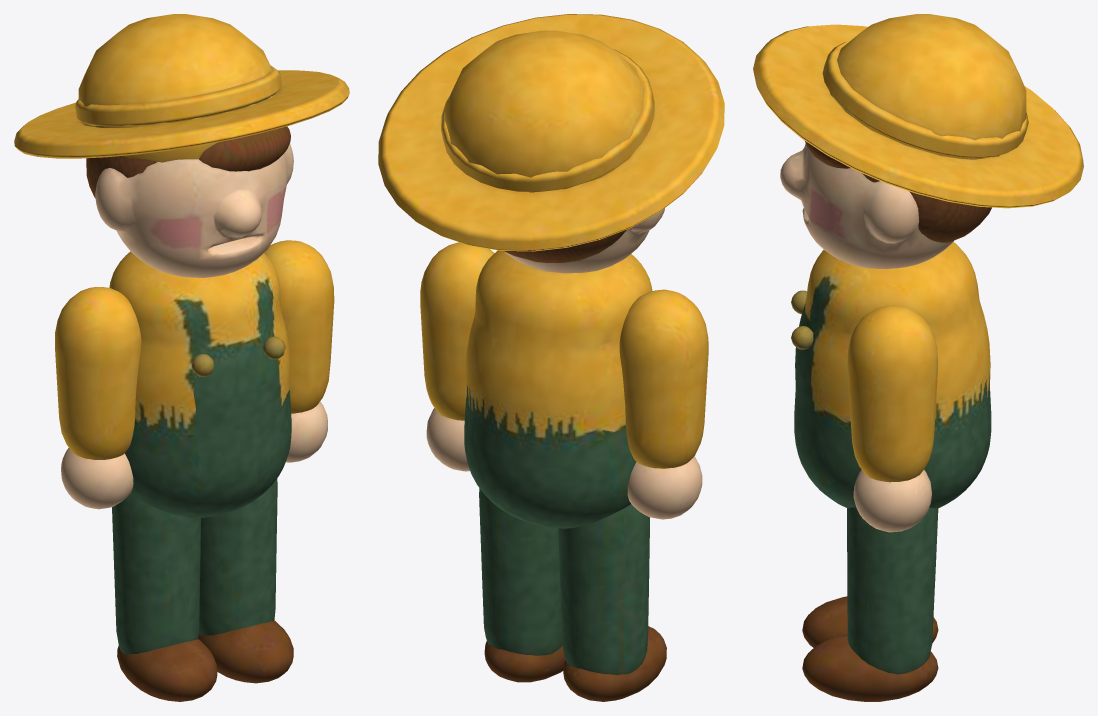
File: fisher.glb
3 views of the same model, side by side, from view 1: azimuth 30°, elevation 25°; view 2: azimuth 150°, elevation 25°; view 3: azimuth 270°, elevation 25° (orthographic). The views are drawn at different scales.
Parts seen in each view (by area): view 1: head, body, leg0, arm0, leg1, arm1; view 2: head, body, arm0, leg0, leg1, arm1; view 3: head, body, leg1, arm1, leg0.
Part boxes in pixels (<box>): head: <box>14,14,349,277</box>; body: <box>109,251,291,517</box>; leg0: <box>112,494,217,701</box>; arm0: <box>55,287,141,509</box>; leg1: <box>198,478,293,683</box>; arm1: <box>264,240,334,462</box>; head: <box>378,14,724,273</box>; body: <box>464,250,652,528</box>; arm0: <box>619,289,708,519</box>; leg0: <box>558,504,666,701</box>; leg1: <box>479,488,565,682</box>; arm1: <box>420,242,494,471</box>; head: <box>753,14,1083,269</box>; body: <box>791,242,991,508</box>; leg1: <box>802,507,938,701</box>; arm1: <box>847,305,937,532</box>; leg0: <box>802,596,938,647</box>.
Size of the model in its own units: 0.4645 by 0.9624 by 0.4418.
Materials: 1 (1 with a texture image).
